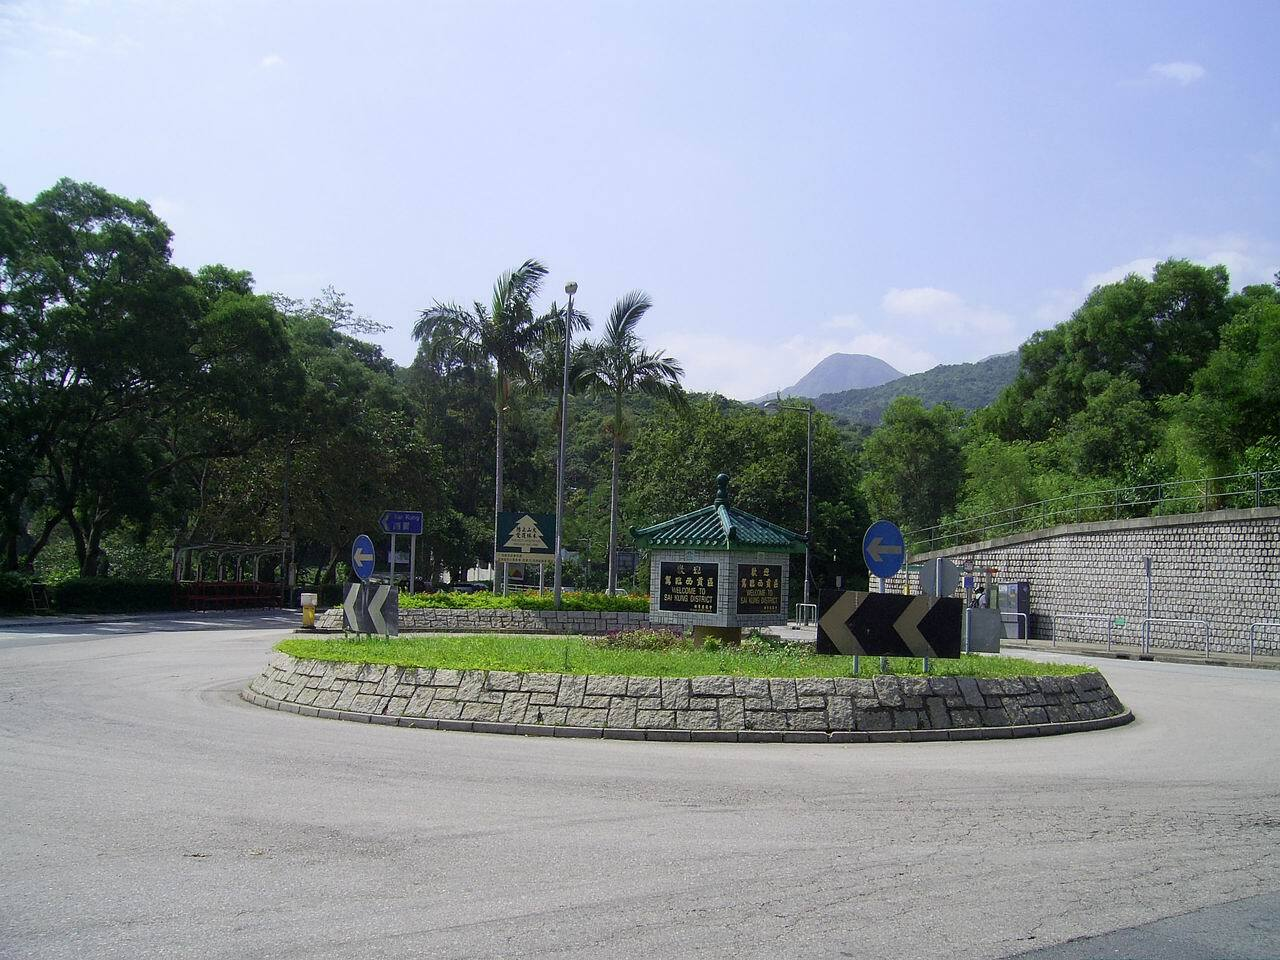Turn Left: (860, 520, 910, 578), (351, 537, 377, 577)
Turn Left(quick): (815, 587, 966, 656), (341, 587, 397, 632)
